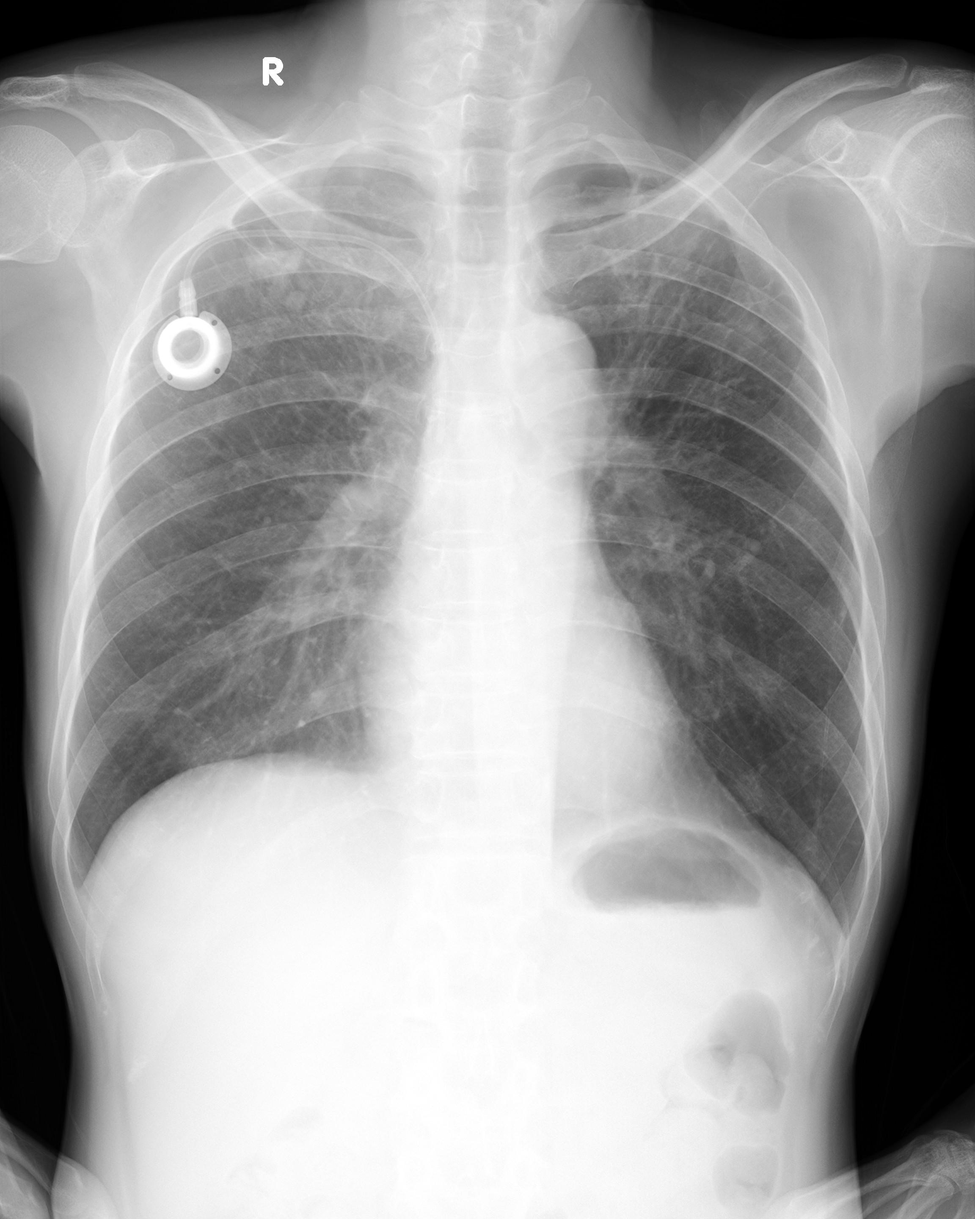Pulmonary fibrosis: (611, 164, 791, 348), (207, 201, 399, 334)
